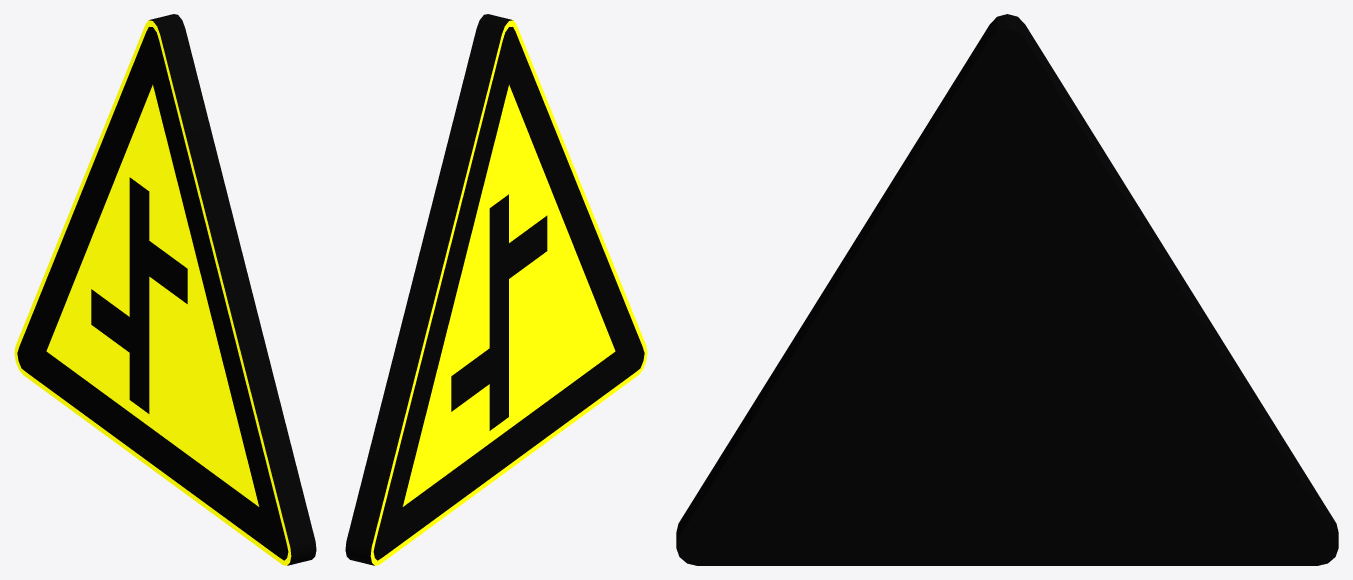
File: Ten_Crossing-2.glb
The picture shows the model from 3 angles, left to right: view 1: azimuth 30°, elevation 25°; view 2: azimuth 150°, elevation 25°; view 3: azimuth 270°, elevation 25°; orthographic projection. The views are drawn at different scales.
Parts seen in each view (by area): view 1: Ten_Crossing_2; view 2: Ten_Crossing_2; view 3: Ten_Crossing_2.
Boxes of the visible parts, x1=… form: Ten_Crossing_2: x1=14, y1=14, x2=316, y2=565; Ten_Crossing_2: x1=345, y1=14, x2=647, y2=565; Ten_Crossing_2: x1=676, y1=14, x2=1338, y2=565.
Size of the model in its own units: 0.0643 by 1.02 by 1.14.
